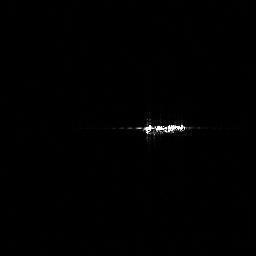ship: (129, 119, 191, 139)
